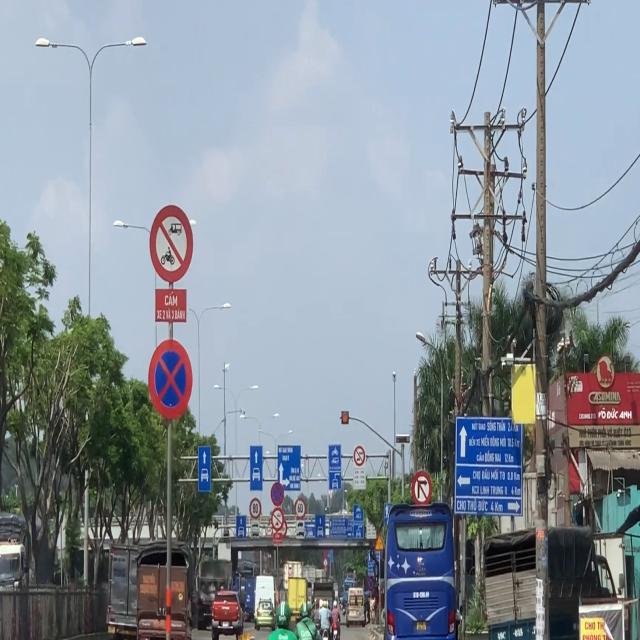Cam con lai: (150, 203, 193, 285), (271, 508, 284, 532), (353, 444, 366, 467)
Cam dung va do: (148, 339, 193, 419), (271, 482, 284, 507), (367, 576, 375, 591)
Cam re phai: (412, 470, 432, 509)
Nguy hiem: (374, 535, 386, 551)
Toc do toi da: (249, 497, 262, 520), (294, 498, 306, 520)
